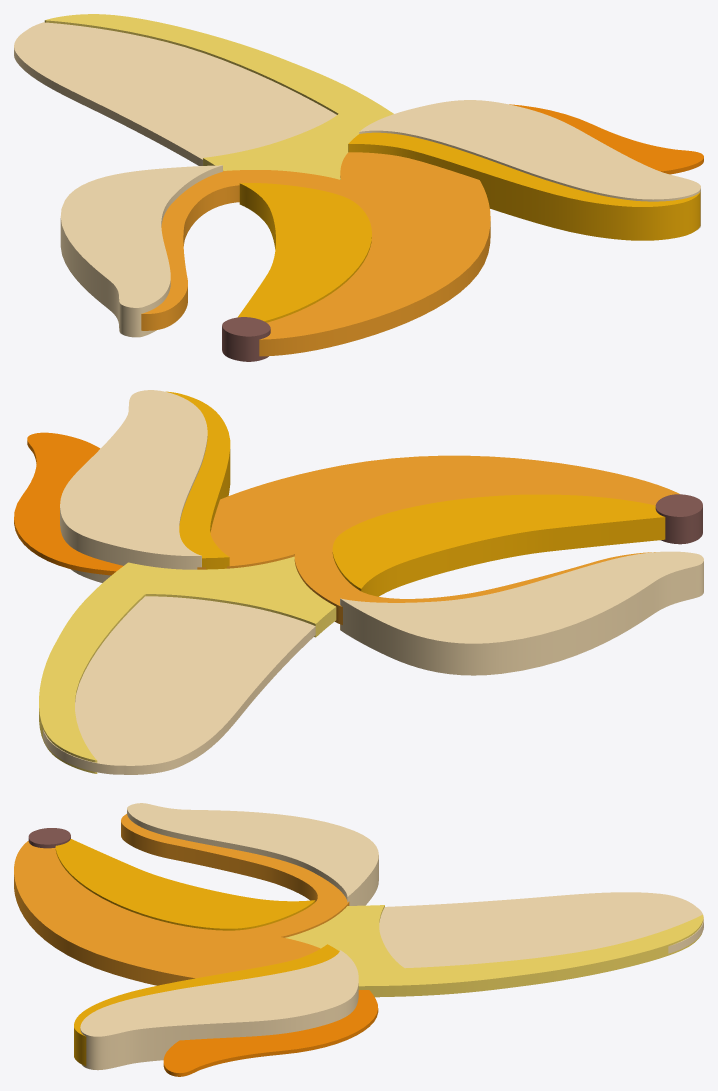
Rendered from emoji_u1f34c.glb.
3 renders of one model, top to bottom at view 1: azimuth 30°, elevation 25°; view 2: azimuth 150°, elevation 25°; view 3: azimuth 270°, elevation 25°, orthographic. The views are drawn at different scales.
Parts seen in each view (by area): view 1: emoji_u1f34c; view 2: emoji_u1f34c; view 3: emoji_u1f34c.
Boxes of the visible parts, <box> form: emoji_u1f34c: <box>14,14,703,361</box>; emoji_u1f34c: <box>14,390,703,774</box>; emoji_u1f34c: <box>14,803,703,1076</box>.
Size of the model in its own units: 0.0299 by 0.0018 by 0.0337.
